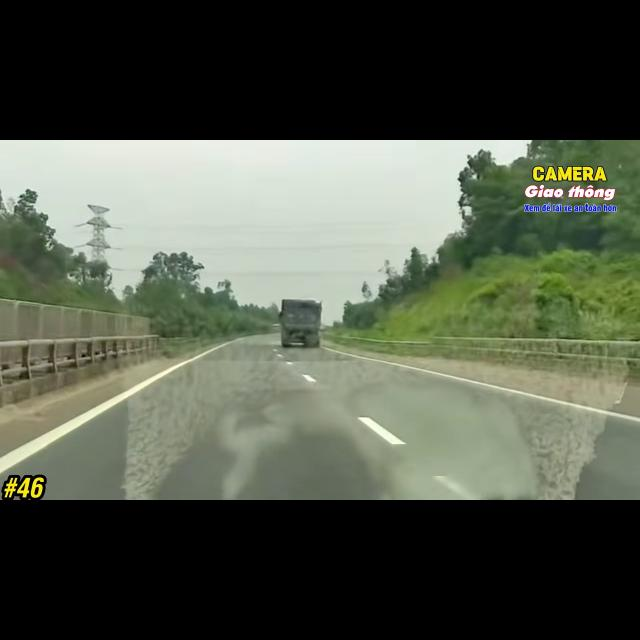truck: (279, 299, 321, 347)
